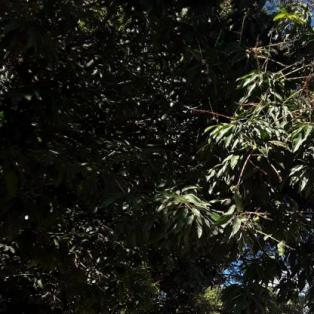Poste: (298, 1, 314, 314)
